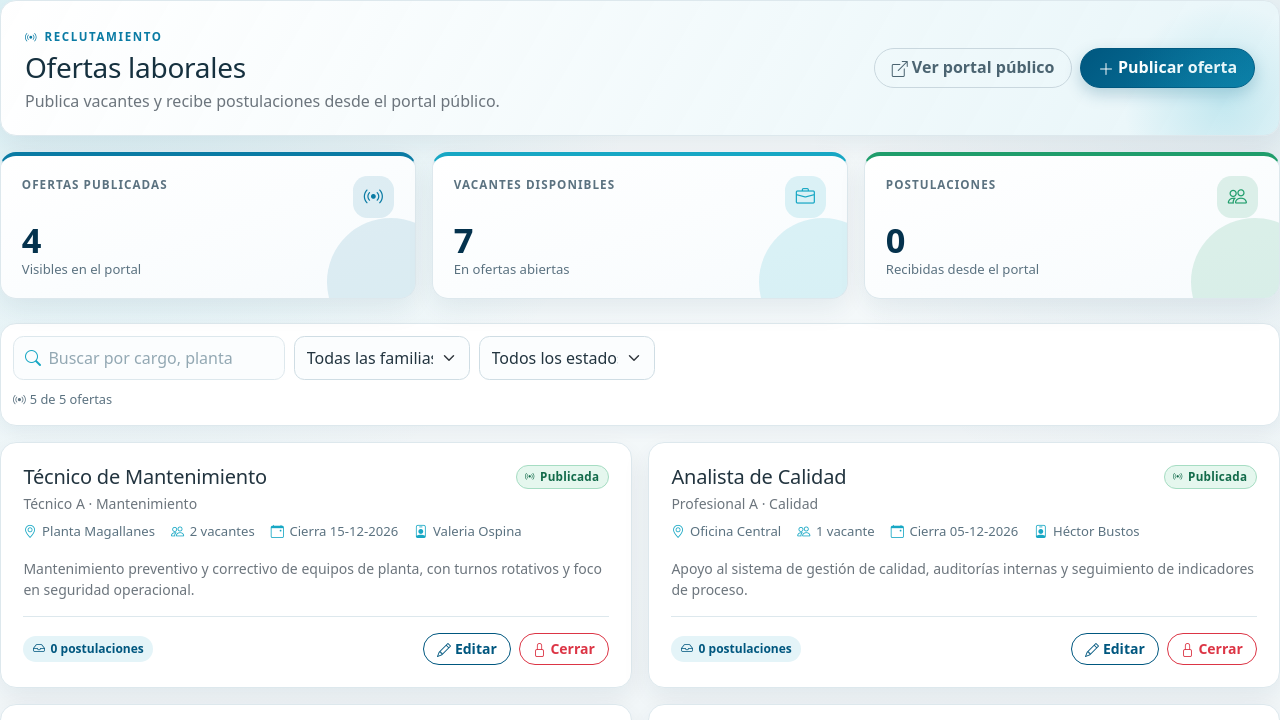
Scenario: OfertasPage — filtros y estados › muestra solo las ofertas cerradas al filtrar ese estado
The image size is (1280, 720).
Select "Cerrada" in the 2nd dropdown named "estado de la oferta" at (567, 358), box x1=479 y1=336 x2=655 y2=380
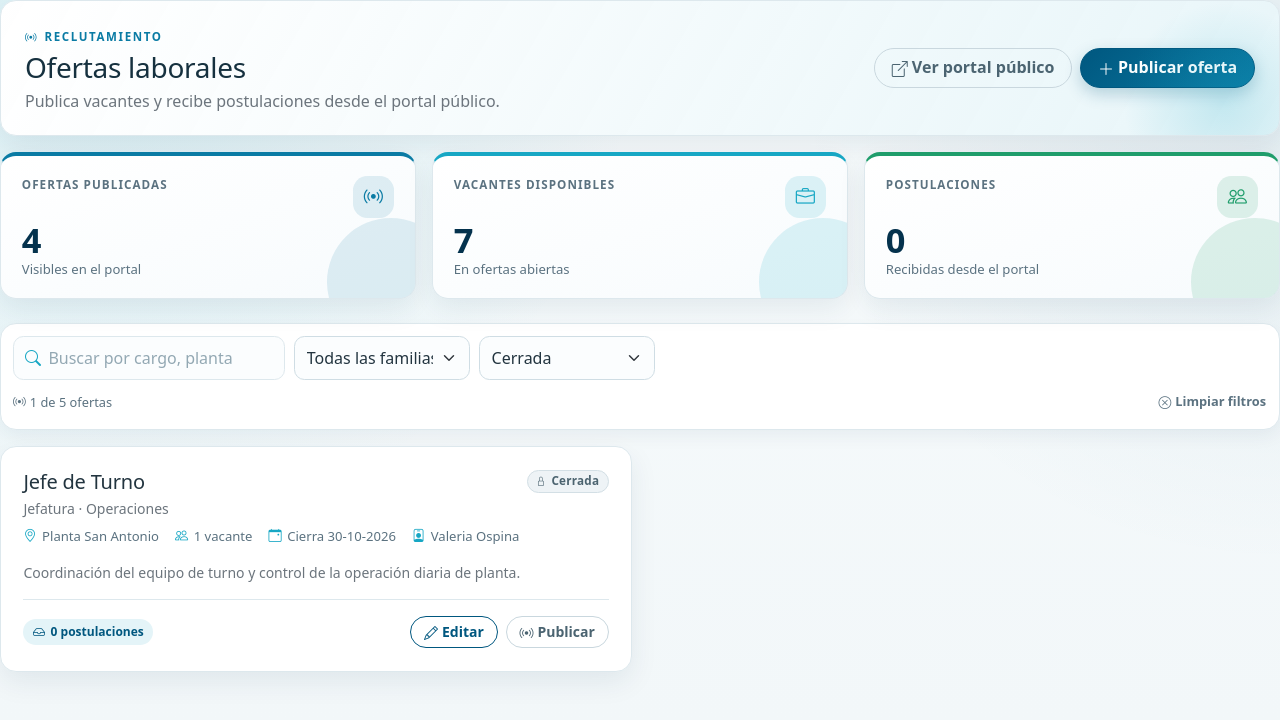
Expected: the heading "Jefe de Turno" is shown, x1=23 y1=468 x2=145 y2=495
Now the heading "Analista de Calidad" is gone
